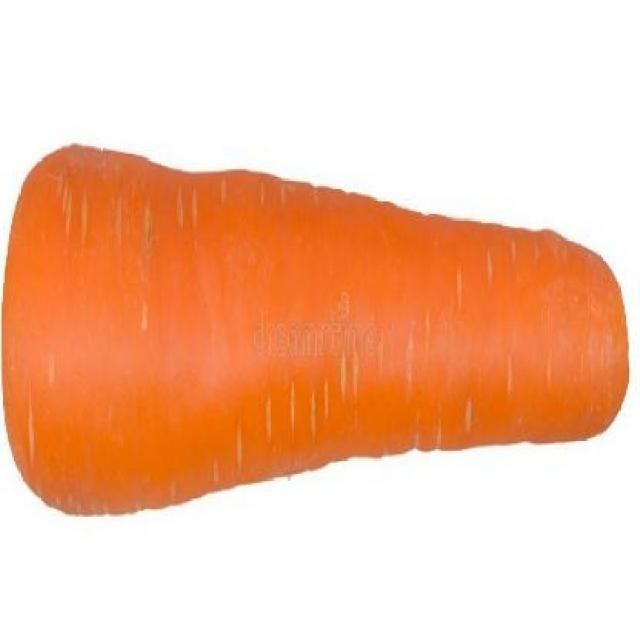carrot: (1, 128, 636, 540)
